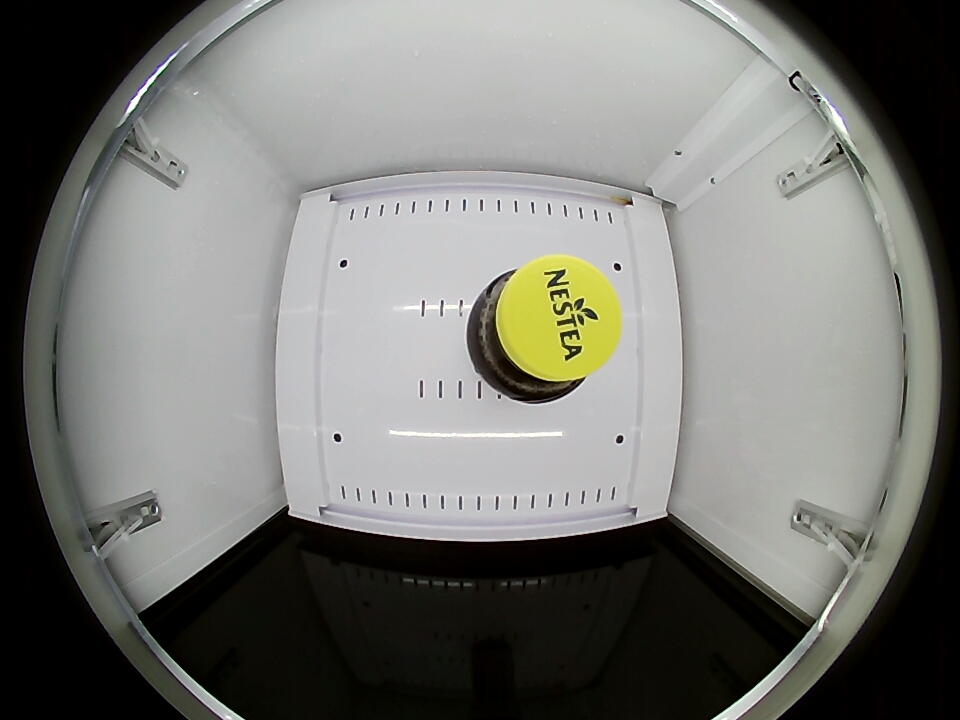chacui: (470, 255, 622, 401)
